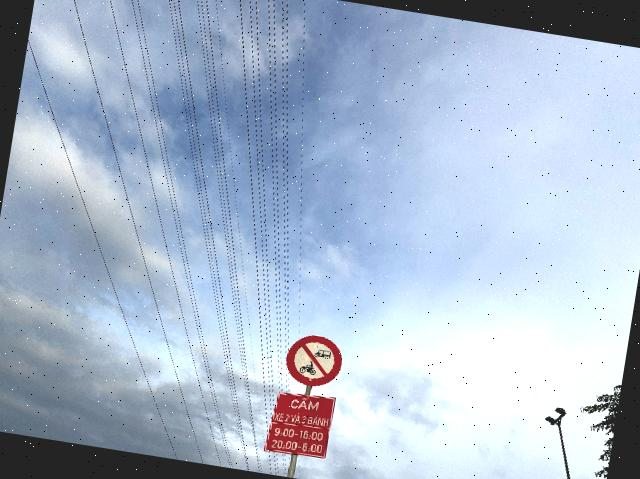cam-xe-2-banh-3-banh: (282, 331, 346, 390)
